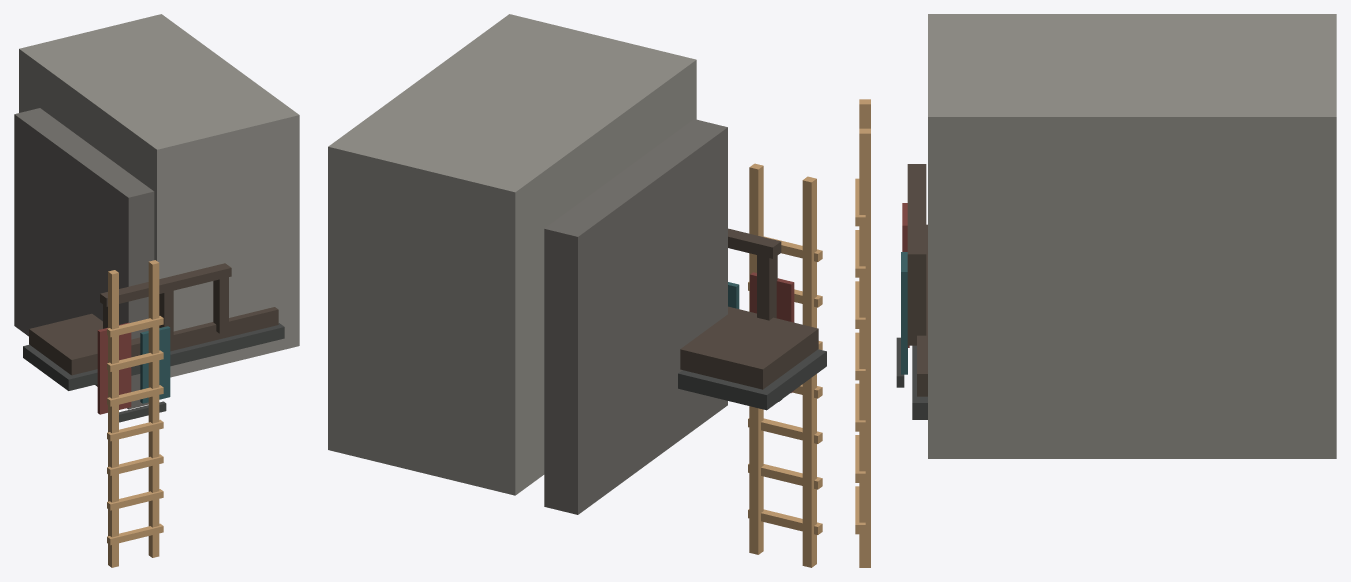
Rendered from hd2d_market_prop_right_tower_set.glb.
The picture shows the model from 3 angles, left to right: view 1: azimuth 30°, elevation 25°; view 2: azimuth 150°, elevation 25°; view 3: azimuth 270°, elevation 25°; orthographic projection. The views are drawn at different scales.
Visible parts, largest first — view 1: RightTowerUpperMass, RightTowerSideButtress, RightTowerPlatformMain, RightTowerPlatformShadowLip, RightVisibleHighLadderRightRailArtpass, RightVisibleHighLadderLeftRailArtpass, RightHangingClothRed, RightTowerBalconyRailTop, RightHangingClothTeal, RightTowerBalconyRailC, RightTowerBalconyRailB, RightVisibleHighLadderRungArtpass01 (+7 smaller); view 2: RightTowerUpperMass, RightTowerSideButtress, RightTowerPlatformMain, RightVisibleHighLadderLeftRailArtpass, RightVisibleHighLadderRightRailArtpass, RightTowerPlatformShadowLip, RightTowerBalconyRailA, RightHangingClothRed, RightTowerBalconyRailTop, RightVisibleHighLadderRungArtpass00, RightVisibleHighLadderRungArtpass02, RightVisibleHighLadderRungArtpass01; view 3: RightTowerUpperMass, RightVisibleHighLadderRightRailArtpass, RightTowerBalconyRailTop, RightTowerBalconyRailC, RightTowerPlatformMain, RightHangingClothTeal, RightTowerPlatformShadowLip.
Part boxes in pixels (x1,y1,x2,y2): RightTowerUpperMass: (19, 14, 299, 377); RightTowerSideButtress: (14, 108, 154, 409); RightTowerPlatformMain: (29, 307, 278, 375); RightTowerPlatformShadowLip: (23, 323, 284, 390); RightVisibleHighLadderRightRailArtpass: (148, 260, 159, 557); RightVisibleHighLadderLeftRailArtpass: (108, 270, 118, 567); RightHangingClothRed: (97, 322, 131, 414); RightTowerBalconyRailTop: (100, 263, 231, 306); RightHangingClothTeal: (140, 326, 170, 403); RightTowerBalconyRailC: (213, 272, 228, 333); RightTowerBalconyRailB: (159, 285, 173, 345); RightVisibleHighLadderRungArtpass01: (107, 489, 163, 510); RightTowerUpperMass: (328, 14, 696, 495); RightTowerSideButtress: (544, 119, 727, 514); RightTowerPlatformMain: (680, 306, 818, 389); RightVisibleHighLadderLeftRailArtpass: (802, 176, 816, 567); RightVisibleHighLadderRightRailArtpass: (749, 163, 763, 554); RightTowerPlatformShadowLip: (678, 349, 826, 410); RightTowerBalconyRailA: (757, 248, 777, 320); RightHangingClothRed: (750, 272, 794, 392); RightTowerBalconyRailTop: (728, 228, 781, 258); RightVisibleHighLadderRungArtpass00: (748, 509, 822, 534); RightVisibleHighLadderRungArtpass02: (748, 418, 822, 443); RightVisibleHighLadderRungArtpass01: (748, 464, 822, 489); RightTowerUpperMass: (928, 14, 1336, 458); RightVisibleHighLadderRightRailArtpass: (859, 128, 870, 567); RightTowerBalconyRailTop: (907, 164, 926, 267); RightTowerBalconyRailC: (907, 267, 926, 345); RightTowerPlatformMain: (917, 224, 927, 396); RightHangingClothTeal: (901, 252, 907, 374); RightTowerPlatformShadowLip: (912, 345, 927, 419).
Size of the model in its own units: 2.57 by 4 by 3.06.
